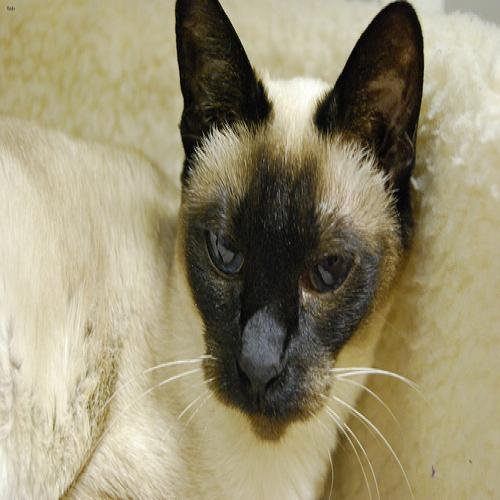siamese: (144, 1, 440, 464)
